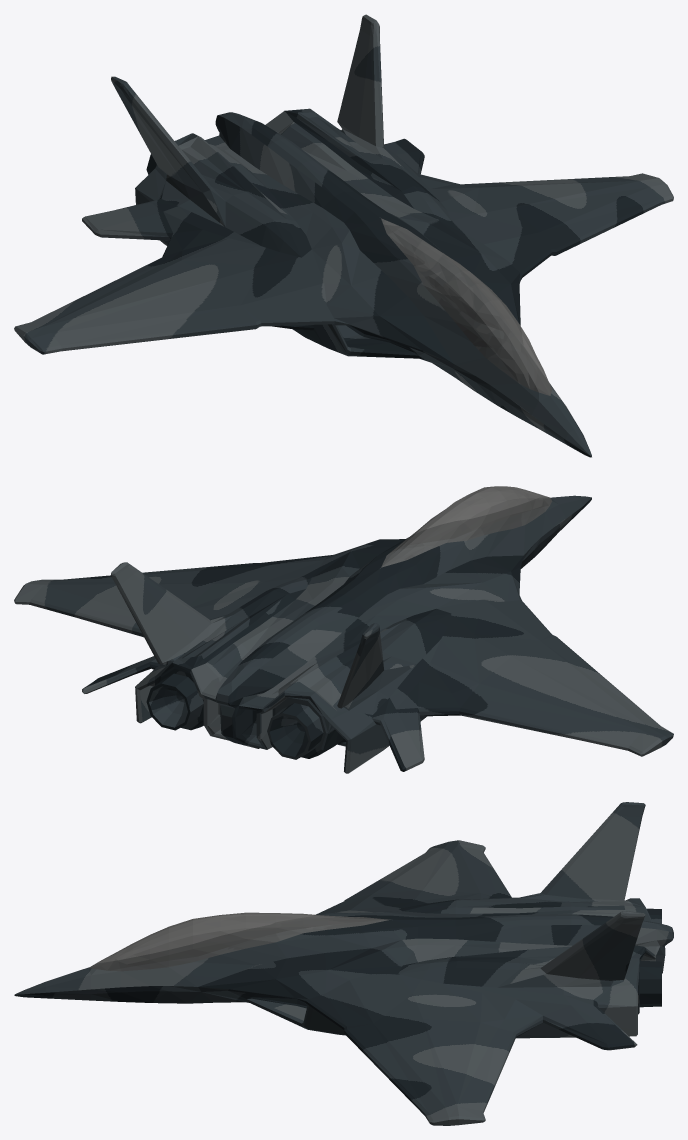
Rendered from aircraft_game_ready.glb.
The picture shows the model from 3 angles, top to bottom: view 1: azimuth 30°, elevation 25°; view 2: azimuth 150°, elevation 25°; view 3: azimuth 270°, elevation 25°; orthographic projection. The views are drawn at different scales.
Visible parts, largest first — view 1: Aircraft; view 2: Aircraft; view 3: Aircraft.
Part boxes in pixels (x1,y1,x2,y2): Aircraft: [14, 14, 673, 457]; Aircraft: [14, 486, 673, 773]; Aircraft: [14, 802, 673, 1125].
Size of the model in its own units: 11.04 by 2.76 by 11.08.
Materials: 2 (1 with a texture image).
